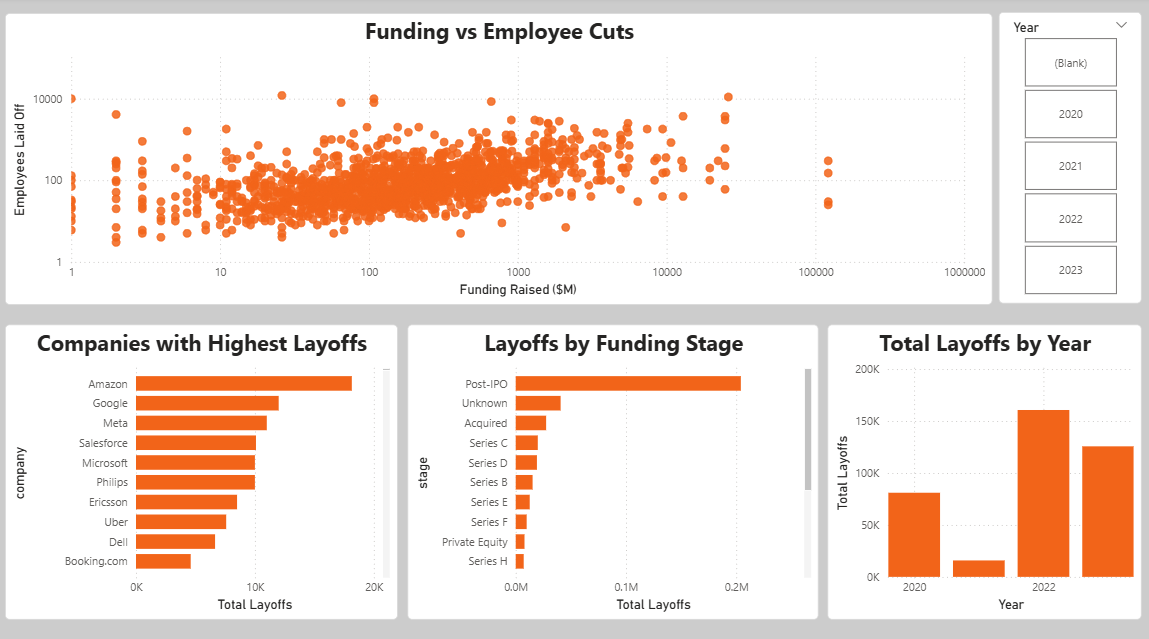

The dashboard page shown, as its layout file describes it:
{"tool":"powerbi","page":{"name":"deep dive","canvas":[1280,720],"ordinal":1},"visuals":[{"type":"clusteredBarChart","title":"Companies with Highest Layoffs","fields":{"Category":["layoffs_Cleaned.company"],"Y":["layoffs_Cleaned.Total Layoffs"]},"box":[5.5,359.5,430.9,323.8],"z":0},{"type":"clusteredBarChart","title":"Layoffs by Funding Stage","fields":{"Category":["layoffs_Cleaned.stage"],"Y":["layoffs_Cleaned.Total Layoffs"]},"box":[447.3,359.5,451.5,323.8],"z":1000},{"type":"clusteredColumnChart","fields":{"Y":["layoffs_Cleaned.Total Layoffs"],"Category":["DateTable.Year"]},"box":[908.4,359.5,344.4,323.8],"z":2000},{"type":"scatterChart","title":"Funding vs Employee Cuts","fields":{"Y":["layoffs_Cleaned.total_laid_off"],"X":["layoffs_Cleaned.funds_raised_millions"]},"box":[5.5,17.8,1084.1,319.7],"z":3000},{"type":"slicer","fields":{"Values":["DateTable.Year"]},"box":[1096.4,16.5,156.4,319.7],"z":4000}]}

Visuals, with their boxes in screenshot pixels (x1, y1, x2, y2), scaled from the page's 1280x720 canvas onto the 1149x639 screenshot:
"Companies with Highest Layoffs" clusteredBarChart: 5,319,392,606
"Layoffs by Funding Stage" clusteredBarChart: 402,319,807,606
clusteredColumnChart - layoffs_Cleaned.Total Layoffs x DateTable.Year: 815,319,1125,606
"Funding vs Employee Cuts" scatterChart: 5,16,978,300
slicer - DateTable.Year: 984,15,1125,298
